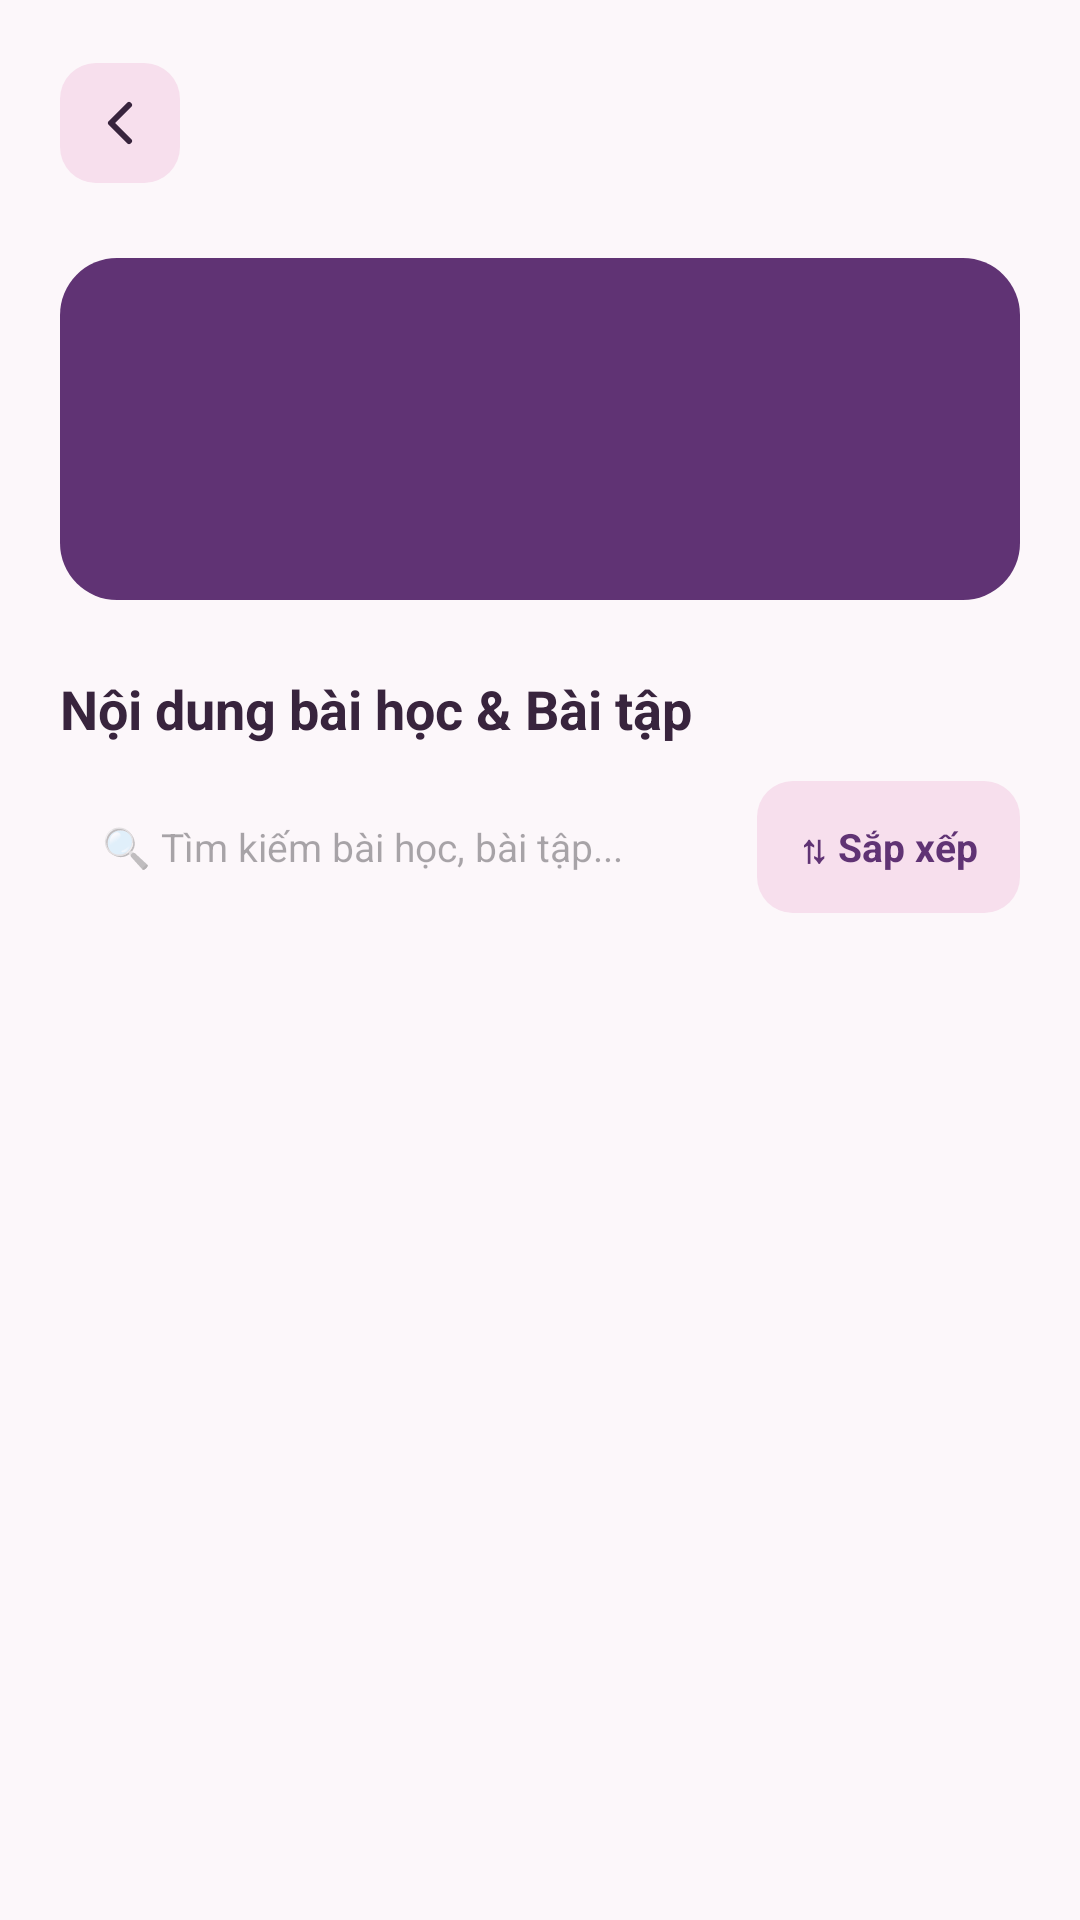

Where icons sit on this 1080*1920 app screen, as (x1, y1, x2, y2):
Quay lại: (60, 63, 180, 183)
